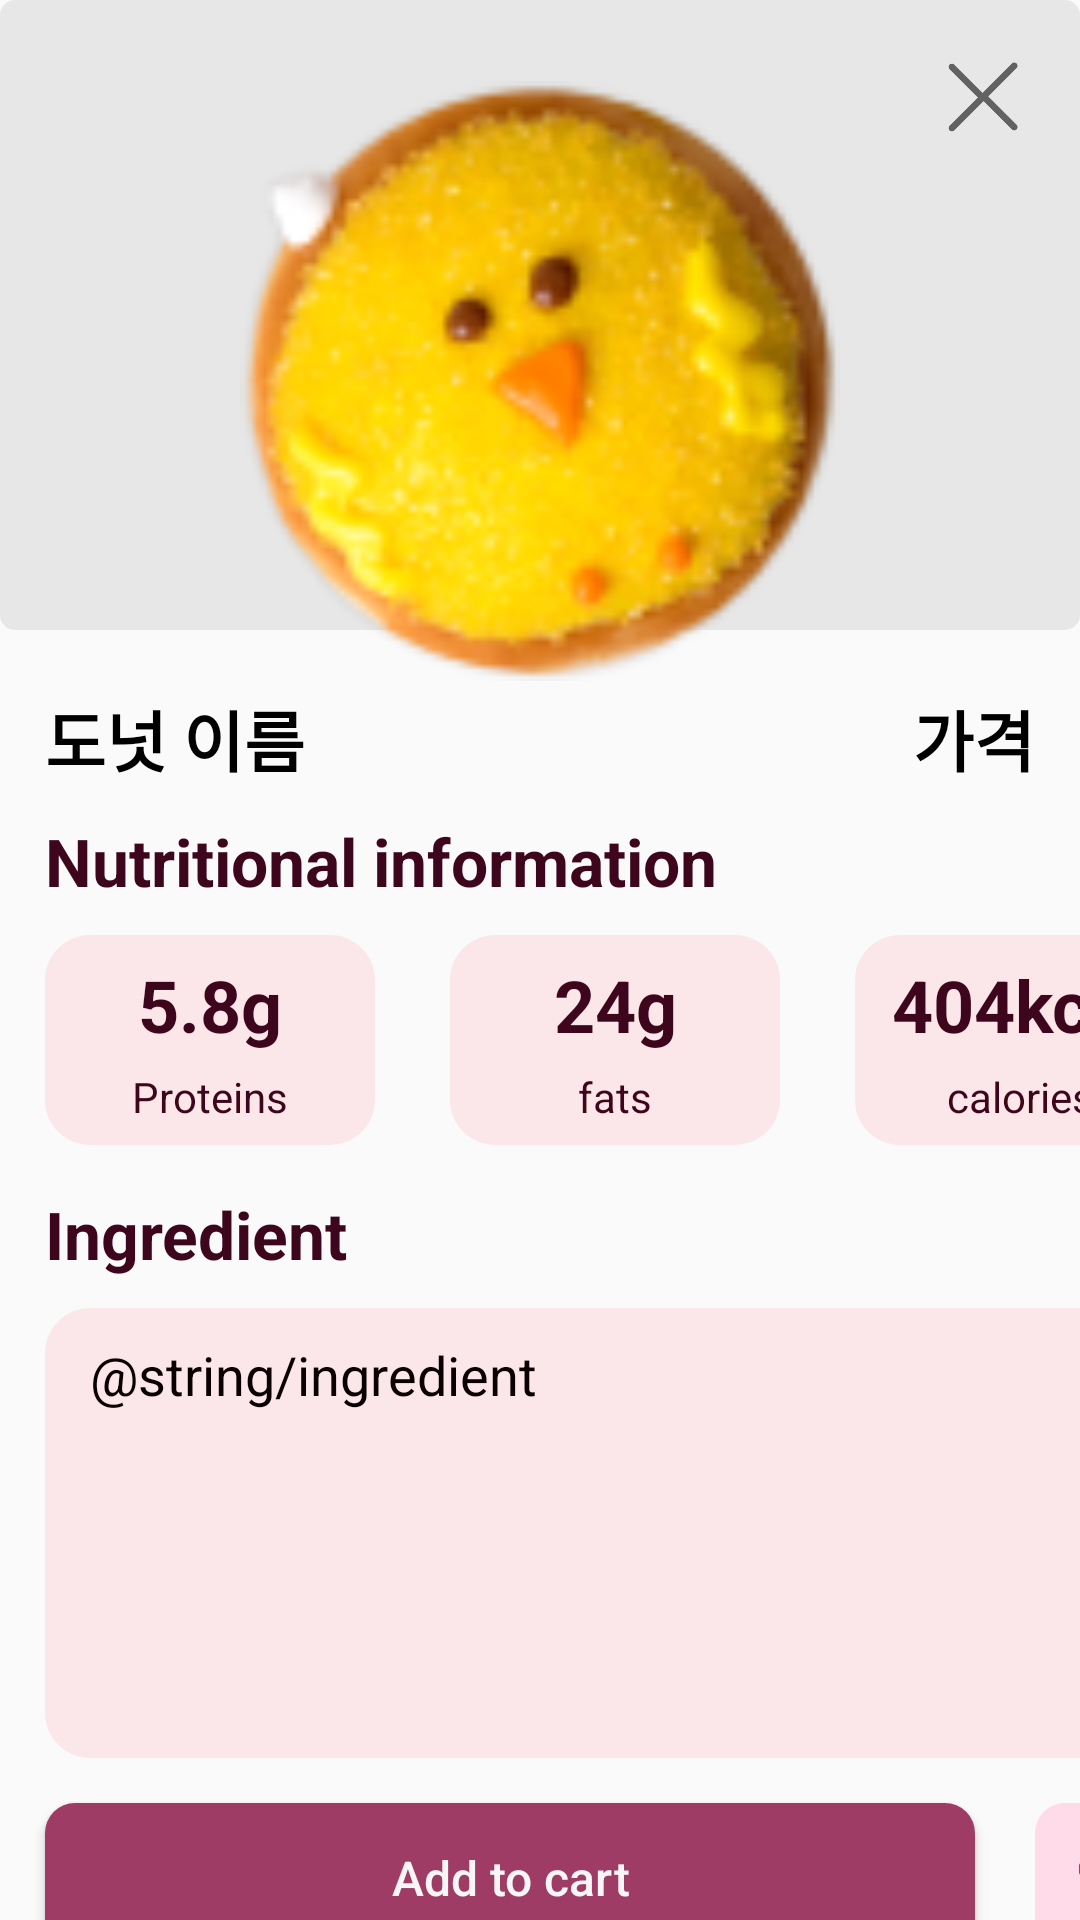

Where icons sit on this 1080 × 1920 app screen, as (x1, y1, x2, y2):
nobtn: (948, 62, 1018, 131)
